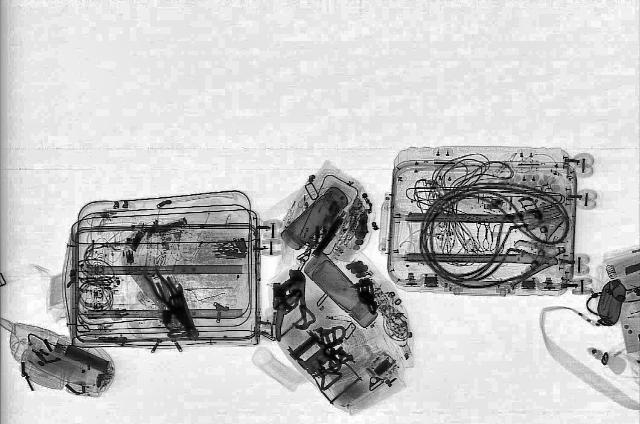Pliers: (137, 266, 200, 334)
